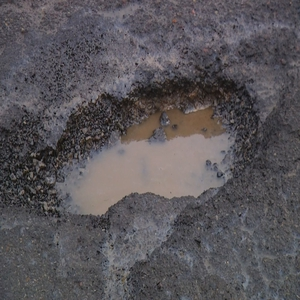pothole: (35, 63, 263, 231)
